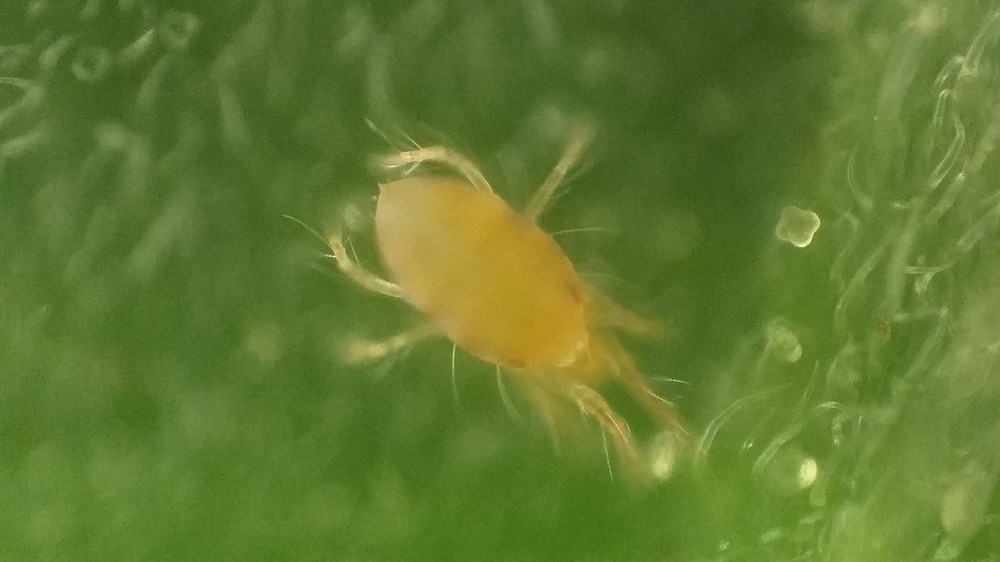Aracnido Rojo: (294, 102, 735, 490)
